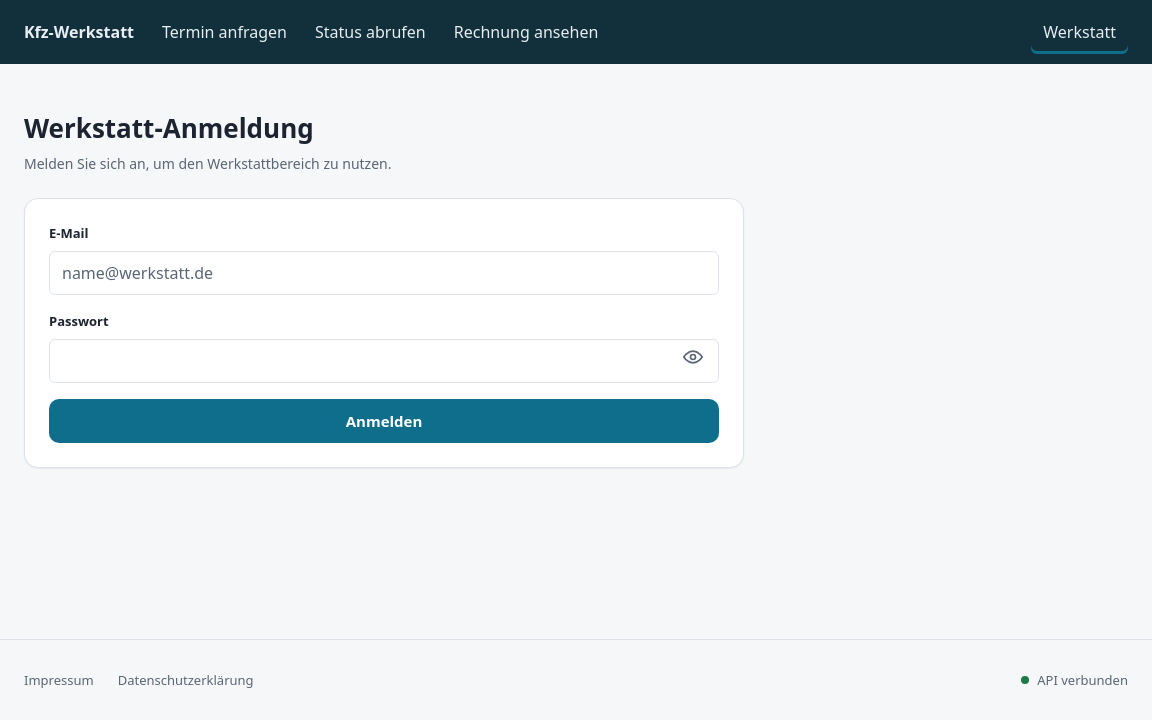
Test: LoginPage › shows one generic message on invalid credentials (401)
Type "anna@werkstatt.de" into the field labelled "E-Mail".
click(384, 273); type("anna@werkstatt.de")  # box [49,251,719,295]
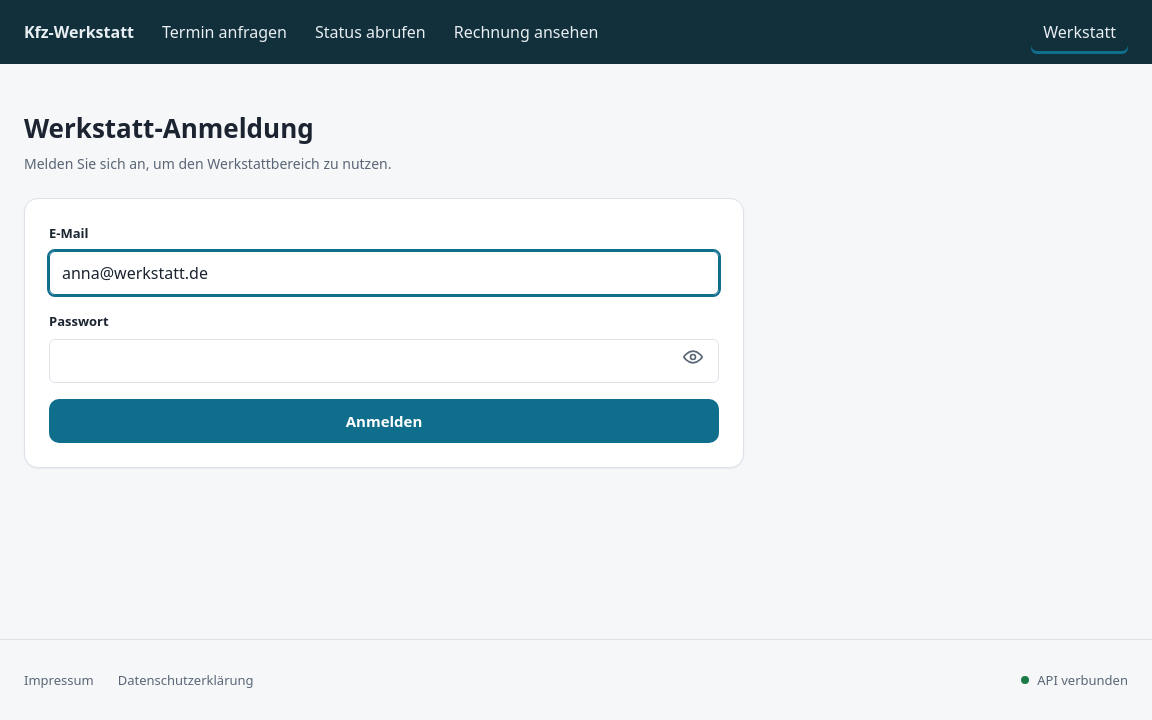
Type "falsch" into the password field labelled "Passwort".
click(384, 362); type("falsch")  # box [49,340,719,384]
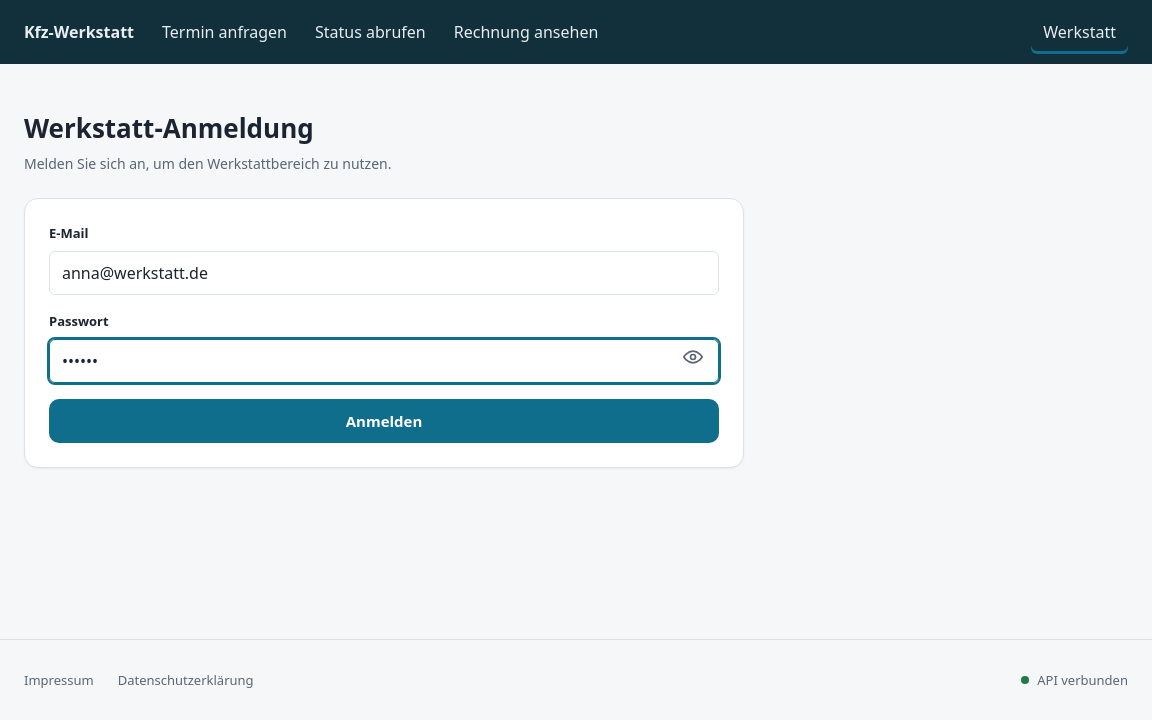
Click the button "Anmelden".
click(384, 422)  # box [49,400,719,444]
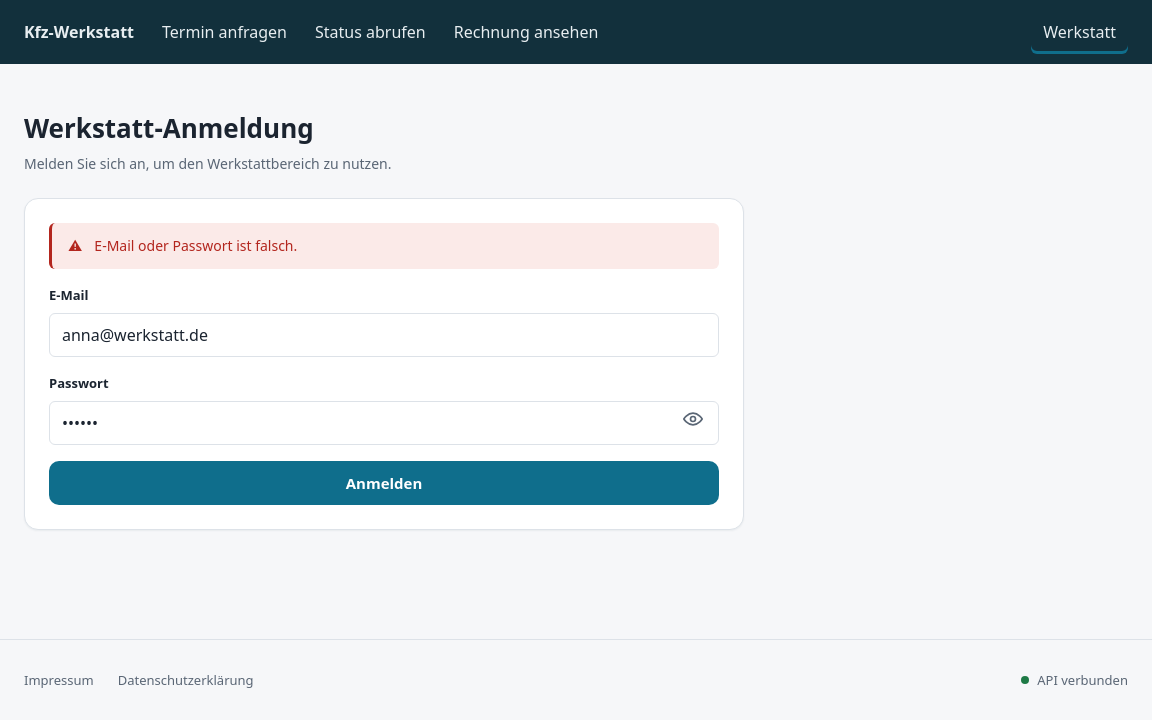
Check: the heading "Werkstatt-Anmeldung" is shown, box [24,110,314,146]
Check: the text "E-Mail oder Passwort ist falsch." is shown, box [94,236,297,255]
